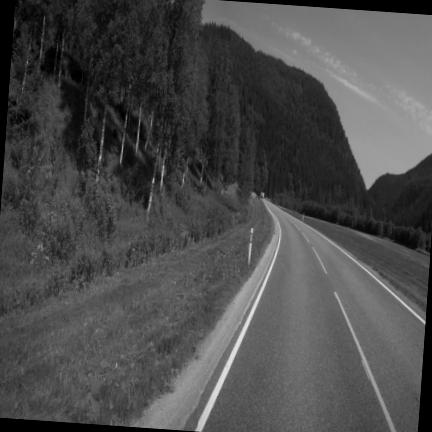Road: (195, 203, 424, 431)
